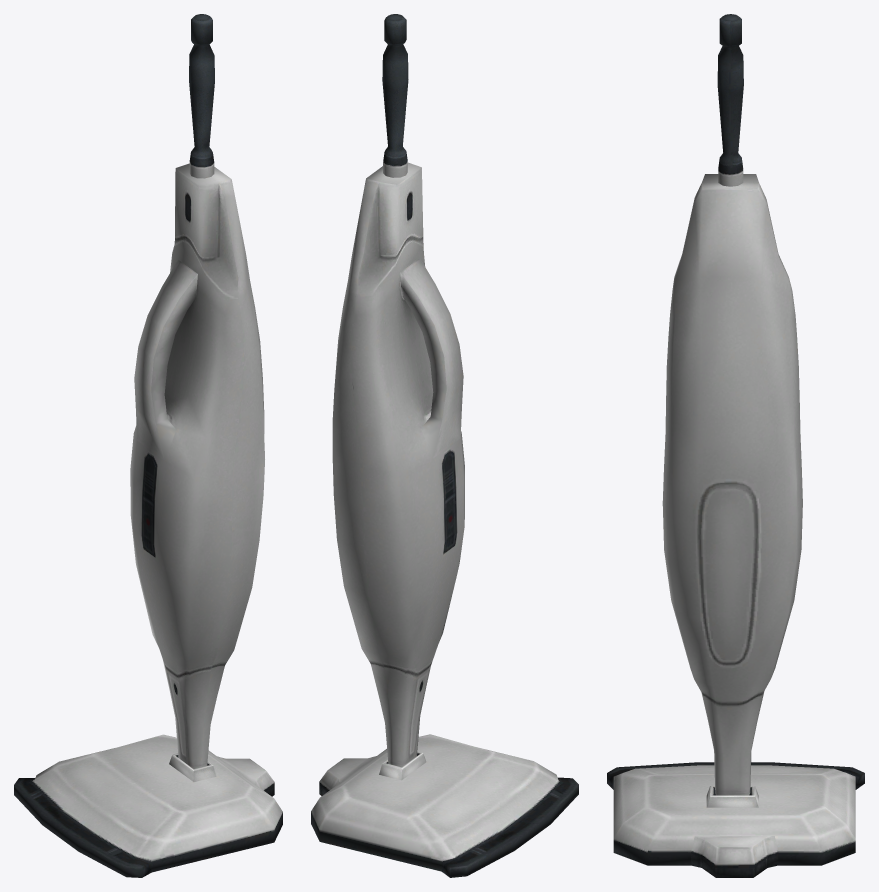
The model's file is vaccum_cleaner.dae.
3 views of the same model, side by side, from view 1: azimuth 30°, elevation 25°; view 2: azimuth 150°, elevation 25°; view 3: azimuth 270°, elevation 25° (orthographic). The views are drawn at different scales.
Parts seen in each view (by area): view 1: vaccum_cleaner; view 2: vaccum_cleaner; view 3: vaccum_cleaner.
Part boxes in pixels (box(x1,y1,x2,y2)): vaccum_cleaner: box(14, 14, 282, 877); vaccum_cleaner: box(311, 14, 578, 877); vaccum_cleaner: box(607, 14, 864, 877).
Size of the model in its own units: 34.29 by 126 by 35.58.
